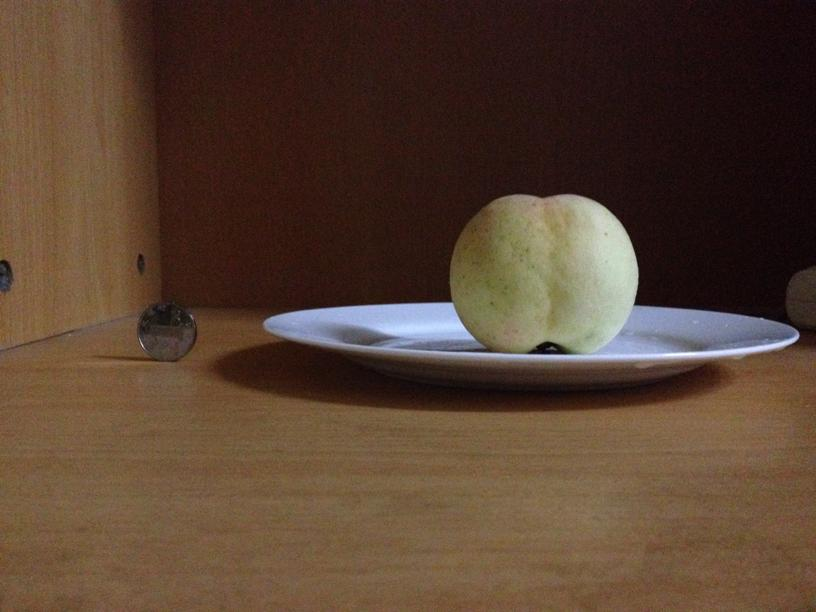coin: (135, 300, 195, 362)
peach: (449, 194, 638, 353)
